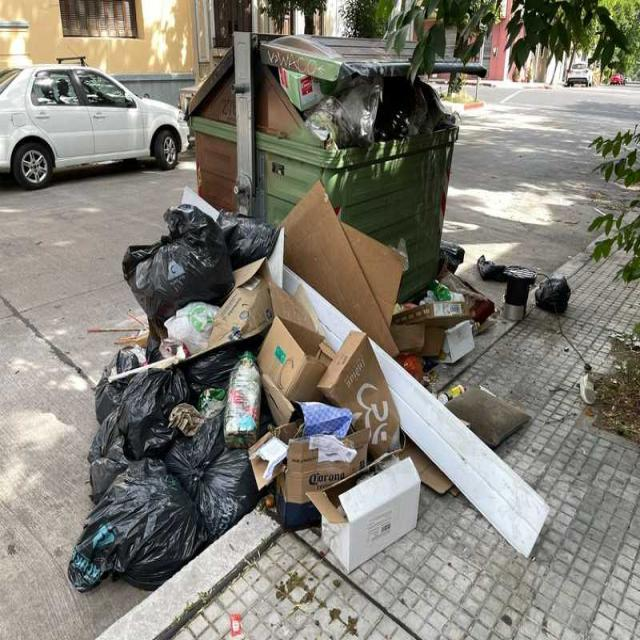garbage: (68, 187, 410, 591), (412, 370, 563, 568), (412, 238, 576, 366), (282, 70, 450, 152)
